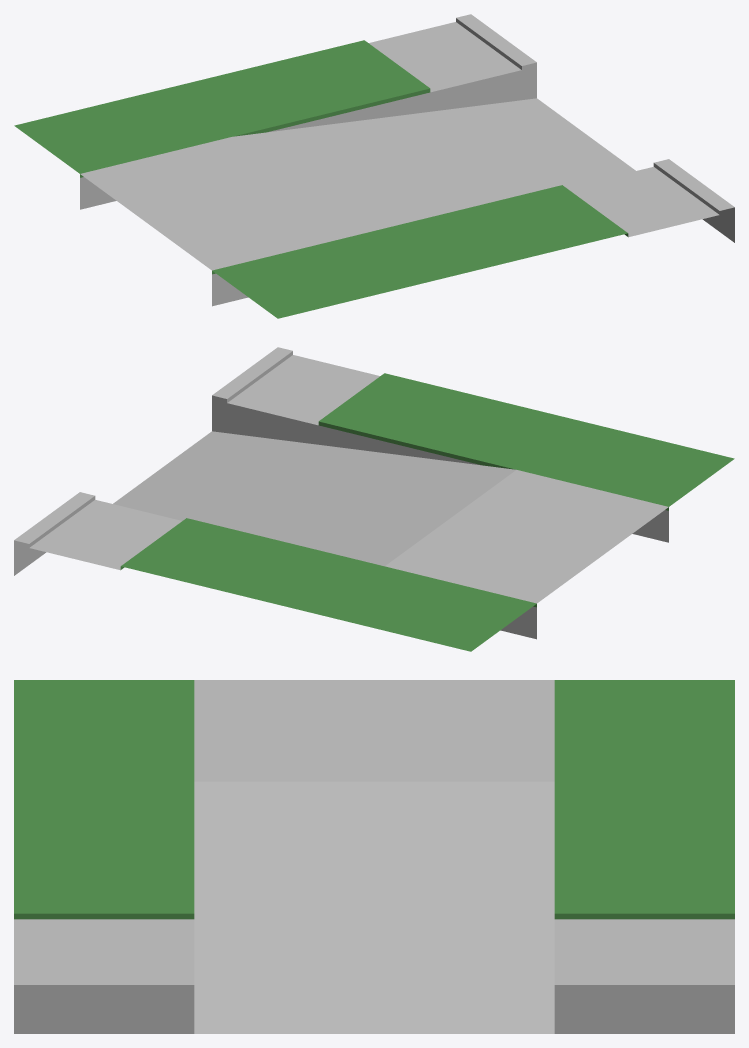
Rendered from goodDriveway.fbx.
3 renders of one model, top to bottom at view 1: azimuth 30°, elevation 25°; view 2: azimuth 150°, elevation 25°; view 3: azimuth 270°, elevation 25°, orthographic. The views are drawn at different scales.
Visible parts, largest first — view 1: Cube.007; view 2: Cube.007; view 3: Cube.007.
Part boxes in pixels (x1,y1,x2,y2): Cube.007: (14, 14, 734, 318); Cube.007: (14, 347, 734, 651); Cube.007: (14, 680, 734, 1033).
Size of the model in its own units: 600 by 45 by 600.
